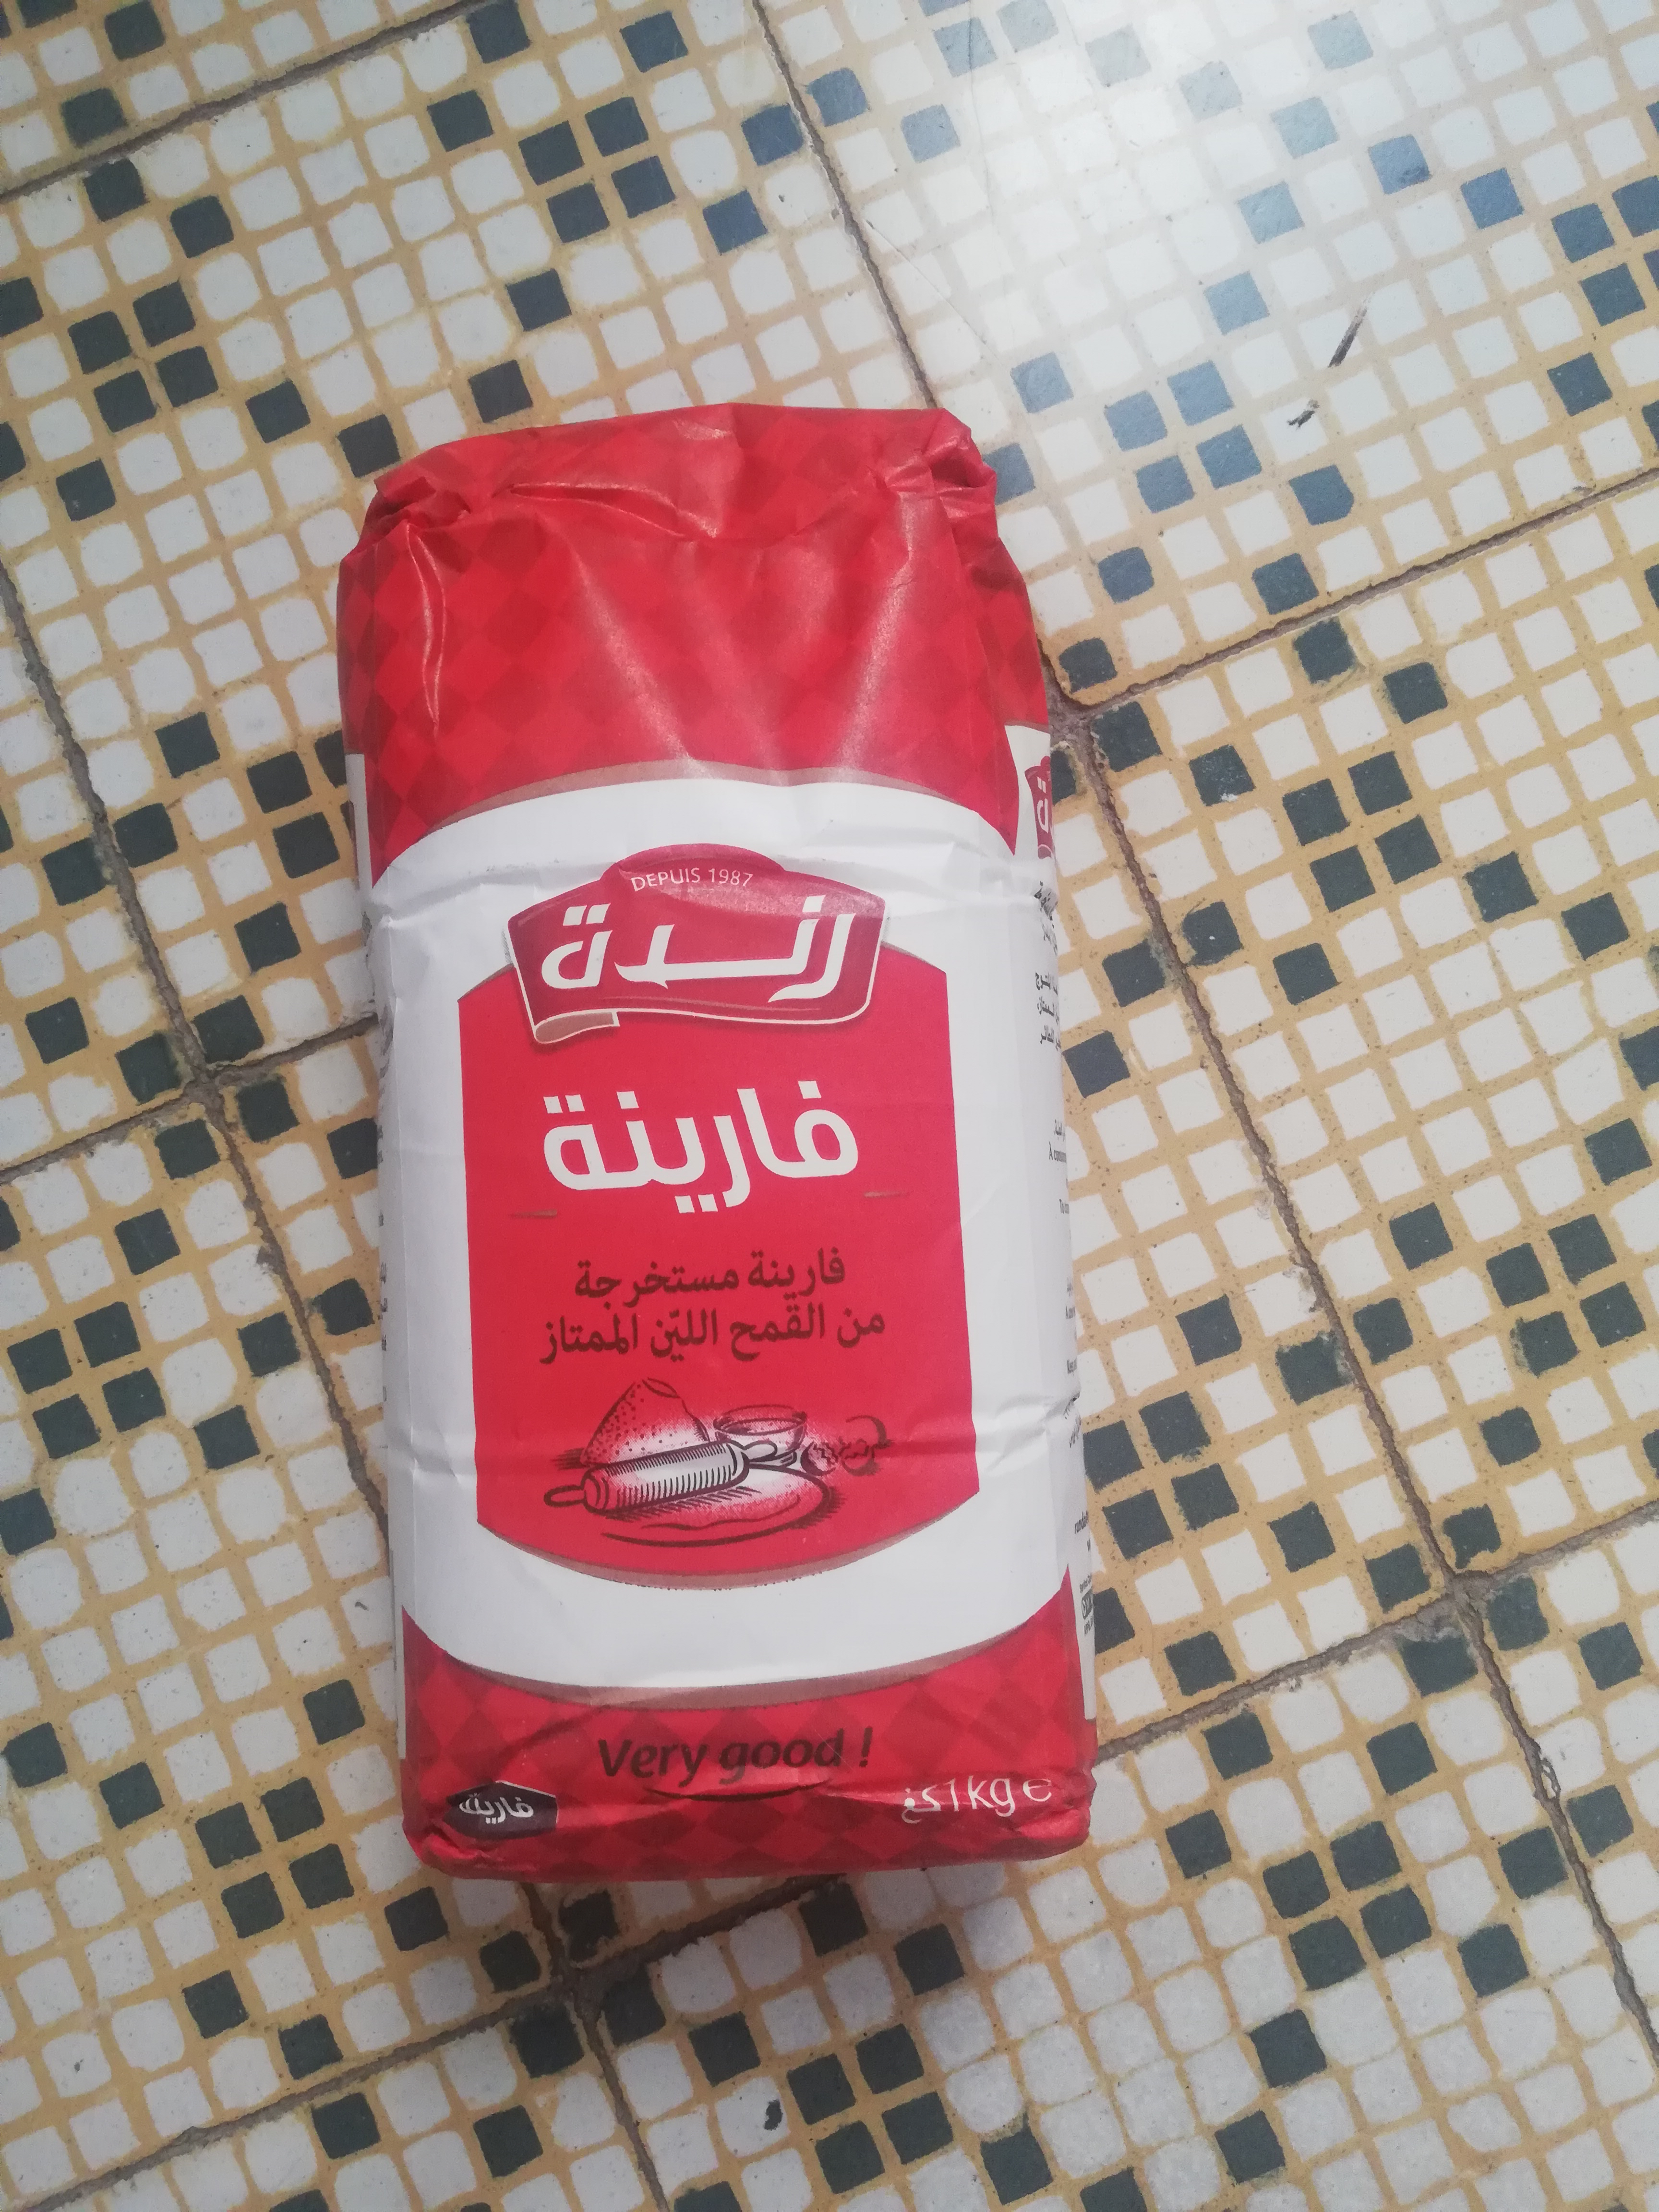Farine Randa: (333, 406, 1096, 1878)
